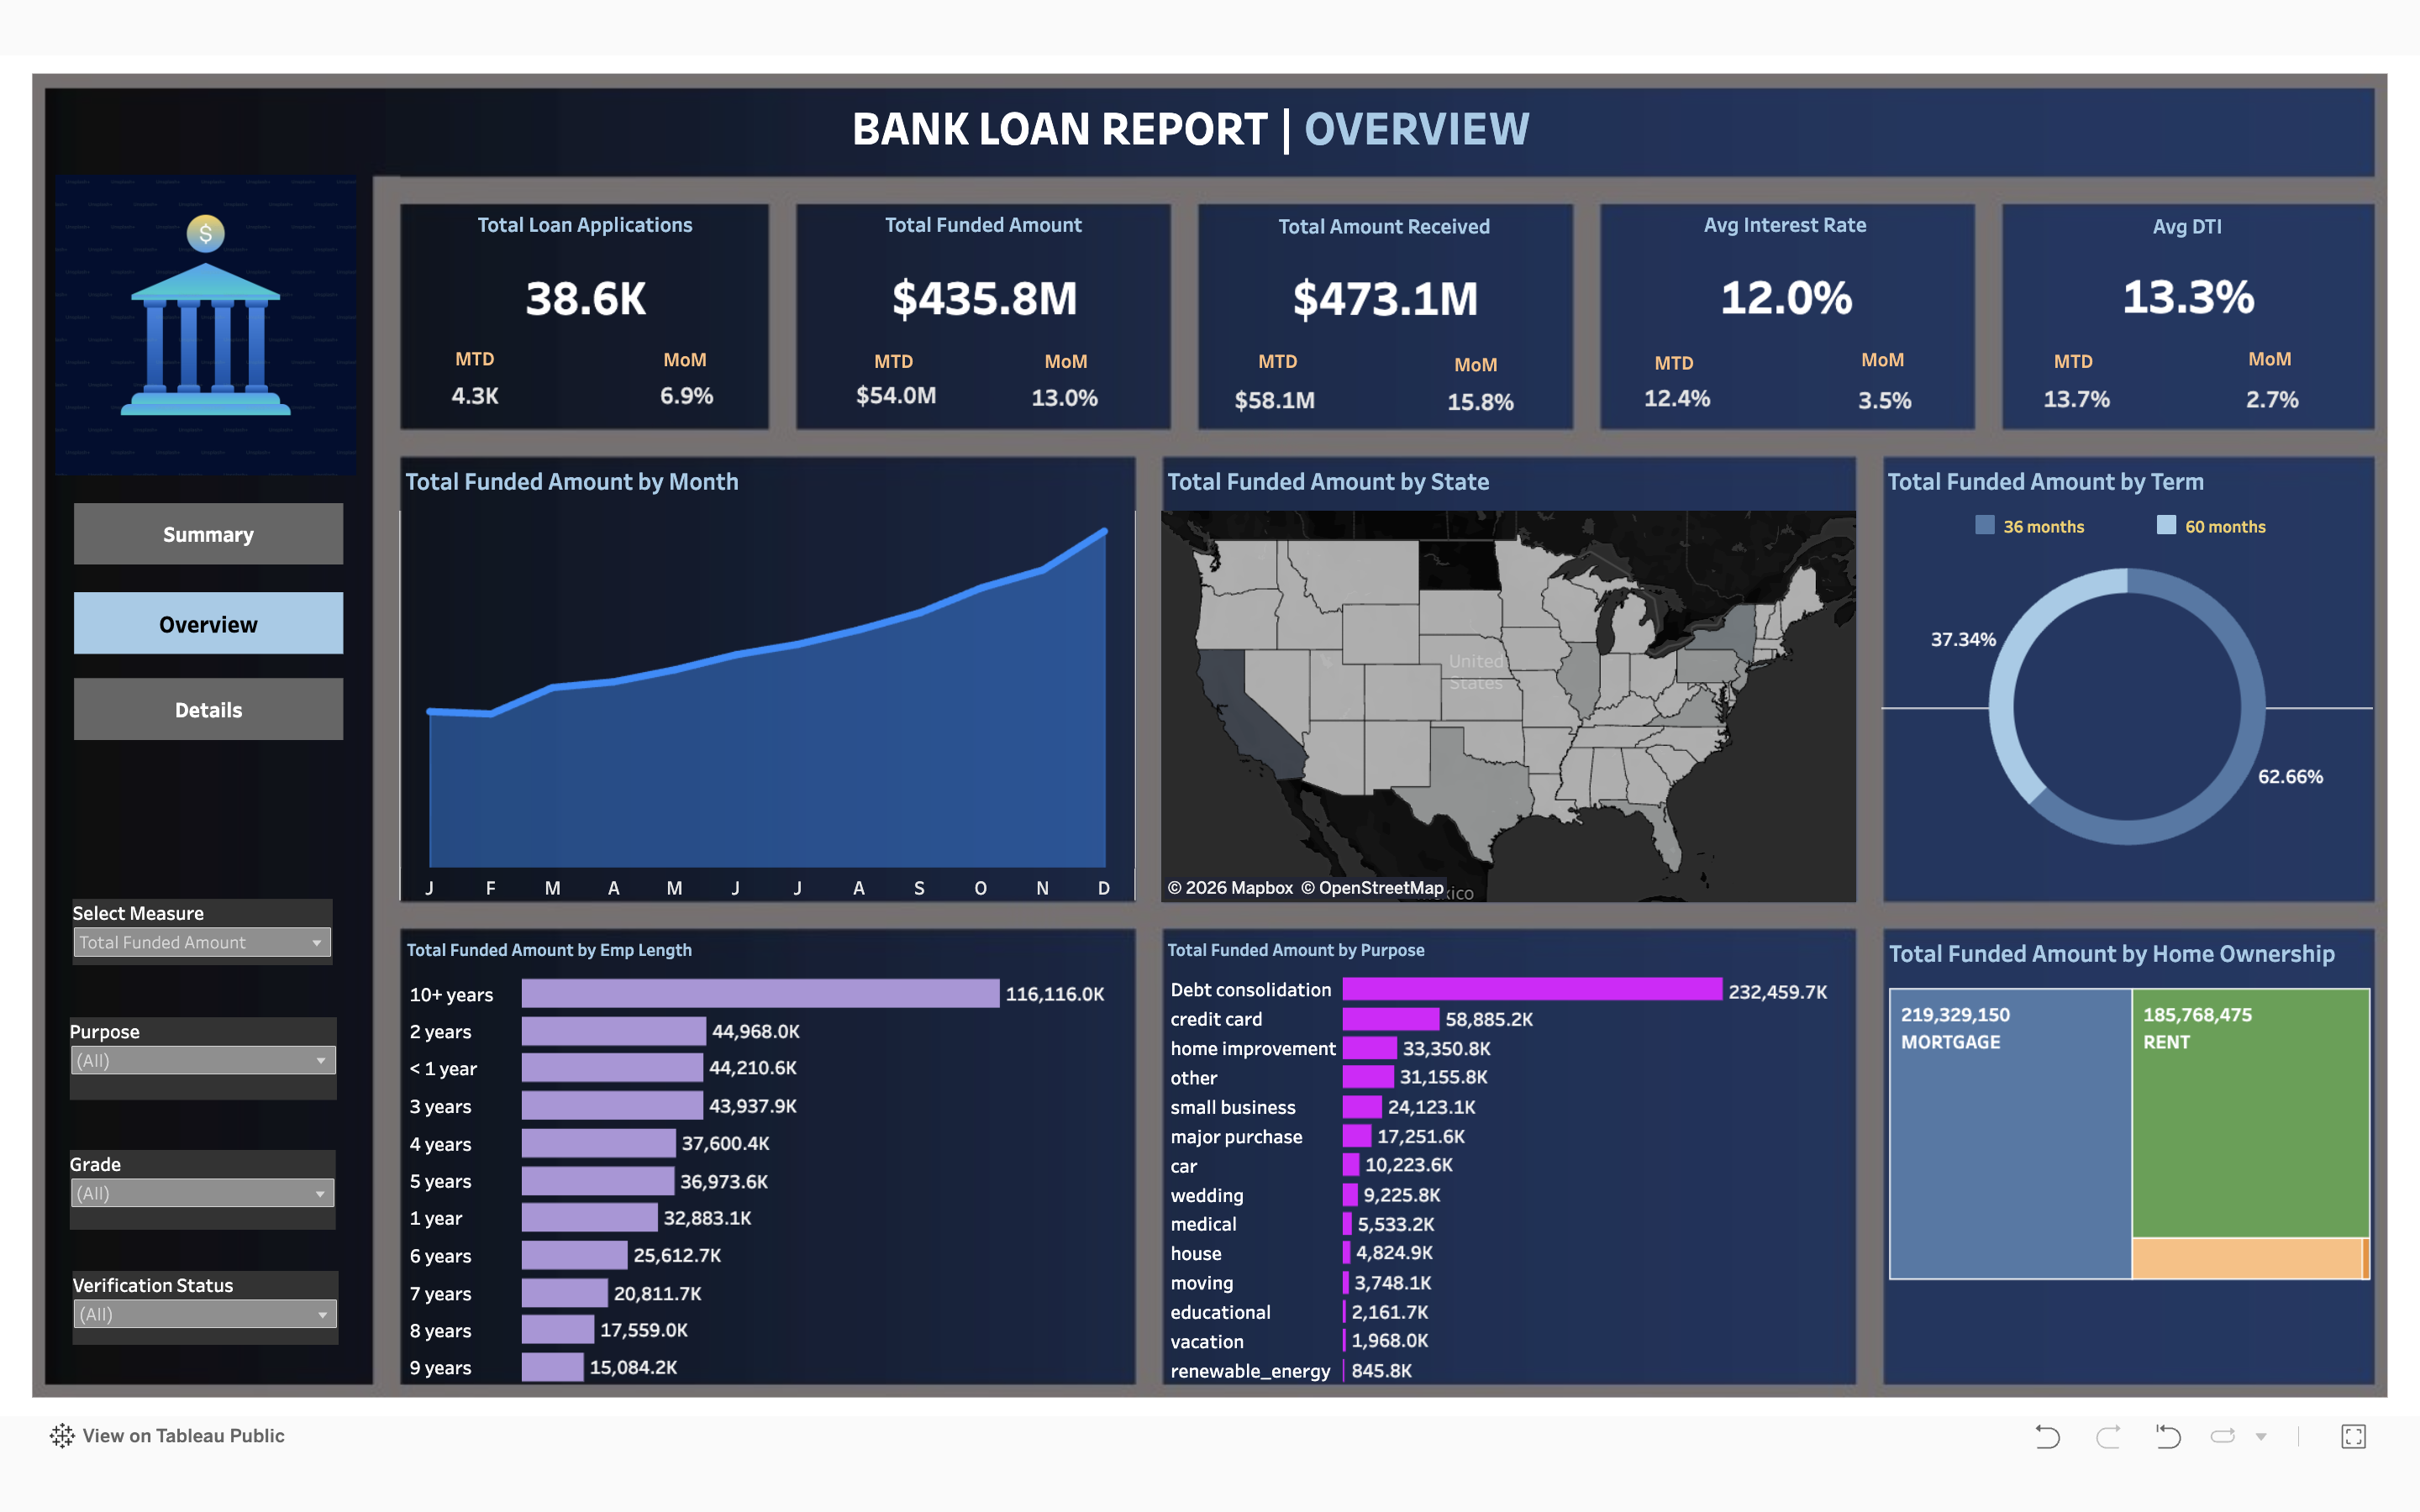

Layout of this report page (visuals, bound fields, positions):
{"tool":"tableau","page":{"name":"OVERVIEW","canvas":[1600,900],"ordinal":1},"visuals":[{"type":"image","param":"Image/Tableau Background 2.jpg","box":[8,8,1584,884]},{"type":"text","box":[563,22,481,51]},{"type":"image","param":"Image/premium_vector-1717511155261-8af531b8270c.jpeg","box":[26,79,220,199]},{"type":"worksheet","title":"Total Loan Applications","mark":"Automatic","box":[266,96,242,92]},{"type":"worksheet","title":"Total Funded Amount","mark":"Automatic","box":[527,96,247,92]},{"type":"worksheet","title":"Avg Interest Rate","mark":"Automatic","box":[1057,96,247,91]},{"type":"worksheet","title":"Total Amount Received","mark":"Automatic","box":[792,97,247,91]},{"type":"worksheet","title":"Avg DTI","mark":"Automatic","box":[1323,97,247,89]},{"type":"text","box":[272,180,84,40]},{"type":"text","box":[1459,180,84,40]},{"type":"text","box":[411,181,84,40]},{"type":"text","box":[1203,181,84,40]},{"type":"text","box":[549,182,84,40]},{"type":"text","box":[663,182,84,40]},{"type":"text","box":[803,182,84,40]},{"type":"text","box":[1329,182,84,40]},{"type":"text","box":[1065,183,84,40]},{"type":"text","box":[934,184,84,40]},{"type":"worksheet","title":"MTD Total Loan Applications","mark":"Automatic","box":[260,199,110,49]},{"type":"worksheet","title":"MTD Total Funded Amount","mark":"Automatic","box":[558,204,71,39]},{"type":"worksheet","title":"MoM Avg Int Rate","mark":"Automatic","box":[1213,204,68,45]},{"type":"worksheet","title":"MTD Avg DTI","mark":"Automatic","box":[1341,204,65,44]},{"type":"worksheet","title":"MoM Total Funded Amount","mark":"Automatic","box":[665,205,79,40]},{"type":"worksheet","title":"MTD Total Amount Received","mark":"Automatic","box":[810,207,67,40]},{"type":"worksheet","title":"MoM Avg DTI","mark":"Automatic","box":[1472,207,62,39]},{"type":"worksheet","title":"MTD Avg Int Rate","mark":"Automatic","box":[1076,208,67,35]},{"type":"worksheet","title":"MoM Loan Applications","mark":"Automatic","box":[424,209,61,30]},{"type":"worksheet","title":"MoM Total Amount Received","mark":"Automatic","box":[940,212,79,32]},{"type":"worksheet","title":"Month","mark":"Area","rows":["Calculation_0920693854302241","Calculation_0920693854302241"],"cols":["issue_date"],"box":[264,265,487,295]},{"type":"worksheet","title":"State","mark":"Multipolygon","box":[768,265,459,295]},{"type":"worksheet","title":"Term","mark":"Pie","rows":["Calculation_0920693872320547","Calculation_0920693872369701"],"box":[1244,265,325,295]},{"type":"dashboard-object","box":[49,296,178,41]},{"type":"legend","title":"Term","param":"[federated.071fudh0e96j4d1cuqdf618amsxq].[none:term:nk]","box":[1303,301,254,26]},{"type":"dashboard-object","box":[49,355,178,41]},{"type":"dashboard-object","box":[49,412,178,41]},{"type":"parameter","param":"[Parameters].[Parameter 1]","box":[48,558,172,44]},{"type":"worksheet","title":"Home Own","mark":"Automatic","box":[1245,577,325,303]},{"type":"worksheet","title":"Emp Length","mark":"Automatic","rows":["emp_length"],"cols":["Calculation_0920693854302241"],"box":[265,578,486,302]},{"type":"worksheet","title":"Purpose","mark":"Automatic","rows":["purpose"],"cols":["Calculation_0920693854302241"],"box":[768,578,458,301]},{"type":"filter","title":"Avg DTI","param":"[federated.071fudh0e96j4d1cuqdf618amsxq].[none:purpose:nk]","box":[46,636,177,55]},{"type":"filter","title":"Avg DTI","param":"[federated.071fudh0e96j4d1cuqdf618amsxq].[none:grade:nk]","box":[46,724,176,53]},{"type":"filter","title":"Avg DTI","param":"[federated.071fudh0e96j4d1cuqdf618amsxq].[none:verification_status:nk]","box":[48,804,176,49]}]}

Visuals, with their boxes on the page's 1600x900 design canvas (x1, y1, x2, y2). These are canvas units, not pixel positions in the 2420x1512 screenshot, which may show the page scaled, cropped or inside an application window:
image: pyautogui.locateOnScreen(8, 8, 1592, 892)
text: pyautogui.locateOnScreen(563, 22, 1044, 73)
image: pyautogui.locateOnScreen(26, 79, 246, 278)
"Total Loan Applications" worksheet: pyautogui.locateOnScreen(266, 96, 508, 188)
"Total Funded Amount" worksheet: pyautogui.locateOnScreen(527, 96, 774, 188)
"Avg Interest Rate" worksheet: pyautogui.locateOnScreen(1057, 96, 1304, 187)
"Total Amount Received" worksheet: pyautogui.locateOnScreen(792, 97, 1039, 188)
"Avg DTI" worksheet: pyautogui.locateOnScreen(1323, 97, 1570, 186)
text: pyautogui.locateOnScreen(272, 180, 356, 220)
text: pyautogui.locateOnScreen(1459, 180, 1543, 220)
text: pyautogui.locateOnScreen(411, 181, 495, 221)
text: pyautogui.locateOnScreen(1203, 181, 1287, 221)
text: pyautogui.locateOnScreen(549, 182, 633, 222)
text: pyautogui.locateOnScreen(663, 182, 747, 222)
text: pyautogui.locateOnScreen(803, 182, 887, 222)
text: pyautogui.locateOnScreen(1329, 182, 1413, 222)
text: pyautogui.locateOnScreen(1065, 183, 1149, 223)
text: pyautogui.locateOnScreen(934, 184, 1018, 224)
"MTD Total Loan Applications" worksheet: pyautogui.locateOnScreen(260, 199, 370, 248)
"MTD Total Funded Amount" worksheet: pyautogui.locateOnScreen(558, 204, 629, 243)
"MoM Avg Int Rate" worksheet: pyautogui.locateOnScreen(1213, 204, 1281, 249)
"MTD Avg DTI" worksheet: pyautogui.locateOnScreen(1341, 204, 1406, 248)
"MoM Total Funded Amount" worksheet: pyautogui.locateOnScreen(665, 205, 744, 245)
"MTD Total Amount Received" worksheet: pyautogui.locateOnScreen(810, 207, 877, 247)
"MoM Avg DTI" worksheet: pyautogui.locateOnScreen(1472, 207, 1534, 246)
"MTD Avg Int Rate" worksheet: pyautogui.locateOnScreen(1076, 208, 1143, 243)
"MoM Loan Applications" worksheet: pyautogui.locateOnScreen(424, 209, 485, 239)
"MoM Total Amount Received" worksheet: pyautogui.locateOnScreen(940, 212, 1019, 244)
"Month" worksheet (Area marks): pyautogui.locateOnScreen(264, 265, 751, 560)
"State" worksheet (Multipolygon marks): pyautogui.locateOnScreen(768, 265, 1227, 560)
"Term" worksheet (Pie marks): pyautogui.locateOnScreen(1244, 265, 1569, 560)
dashboard-object: pyautogui.locateOnScreen(49, 296, 227, 337)
"Term" legend: pyautogui.locateOnScreen(1303, 301, 1557, 327)
dashboard-object: pyautogui.locateOnScreen(49, 355, 227, 396)
dashboard-object: pyautogui.locateOnScreen(49, 412, 227, 453)
parameter: pyautogui.locateOnScreen(48, 558, 220, 602)
"Home Own" worksheet: pyautogui.locateOnScreen(1245, 577, 1570, 880)
"Emp Length" worksheet: pyautogui.locateOnScreen(265, 578, 751, 880)
"Purpose" worksheet: pyautogui.locateOnScreen(768, 578, 1226, 879)
"Avg DTI" filter: pyautogui.locateOnScreen(46, 636, 223, 691)
"Avg DTI" filter: pyautogui.locateOnScreen(46, 724, 222, 777)
"Avg DTI" filter: pyautogui.locateOnScreen(48, 804, 224, 853)
